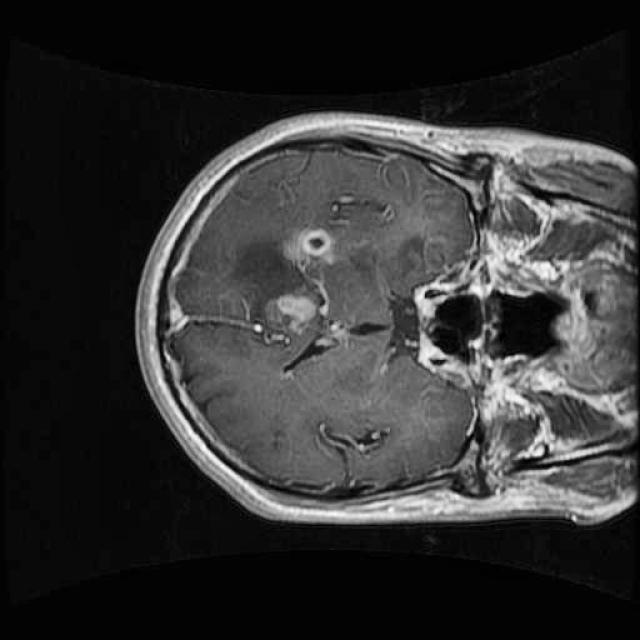Non-Tumor: (252, 214, 346, 350)
